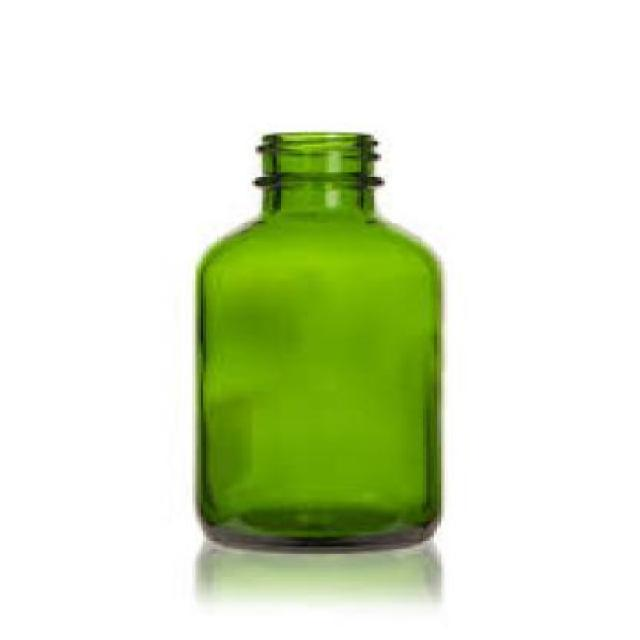kaca: (195, 131, 437, 549)
